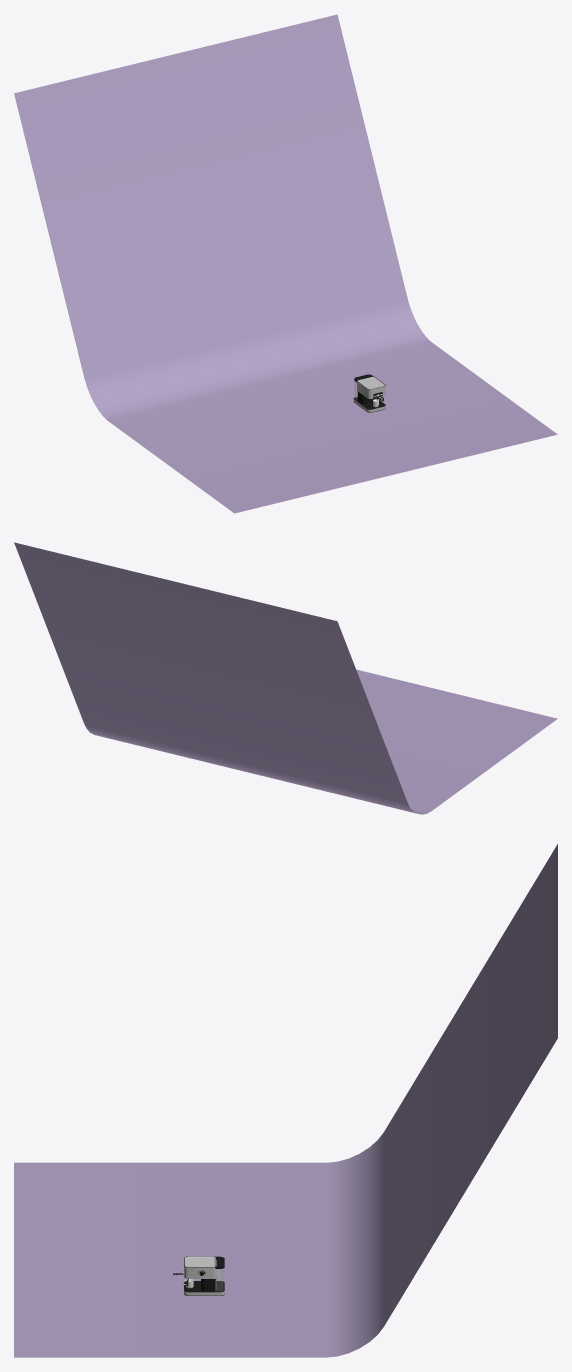
Rendered from machine_cafe.glb.
The picture shows the model from 3 angles, top to bottom: view 1: azimuth 30°, elevation 25°; view 2: azimuth 150°, elevation 25°; view 3: azimuth 270°, elevation 25°; orthographic projection. The views are drawn at different scales.
Visible parts, largest first — view 1: Plane; view 2: Plane; view 3: Plane, Cube.
Part boxes in pixels (box(x1,y1,x2,y2)): Plane: box(14, 14, 557, 513); Plane: box(14, 542, 557, 814); Plane: box(14, 844, 557, 1357); Cube: box(184, 1256, 216, 1278).
Size of the model in its own units: 42.44 by 32.45 by 50.1.
